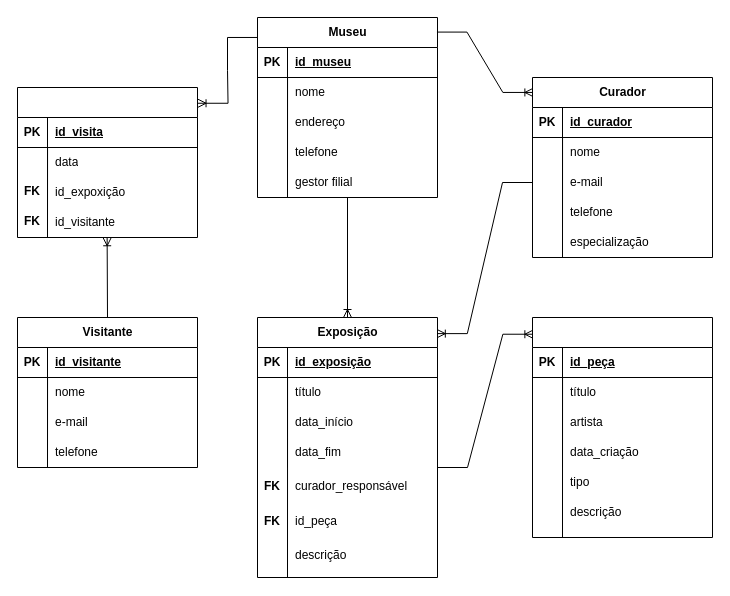
Some shapes in this 730 by 596 pixel diagram are drawn without their labels. The shapes that lost their labels are listed below. From the top down, each one's box as (x1, y1, x2, y2) in pixels, then its label:
(16, 86, 198, 238): Visita ao Museu
(532, 316, 712, 538): Peça de arte
